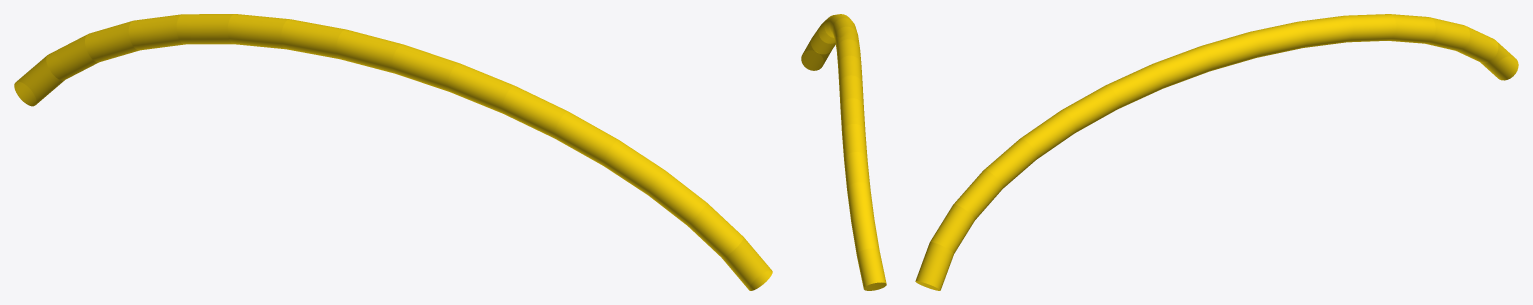
Rendered from Event_421115418_track_151.fbx.
3 views of the same model, side by side, from view 1: azimuth 30°, elevation 25°; view 2: azimuth 150°, elevation 25°; view 3: azimuth 270°, elevation 25° (orthographic). The views are drawn at different scales.
Parts seen in each view (by area): view 1: Model; view 2: Model; view 3: Model.
Boxes of the visible parts, left/top/right/bottom form: Model: left=14, top=14, right=772, bottom=290; Model: left=801, top=14, right=886, bottom=290; Model: left=915, top=14, right=1518, bottom=290.
Size of the model in its own units: 0.6533 by 0.2622 by 0.8953.
